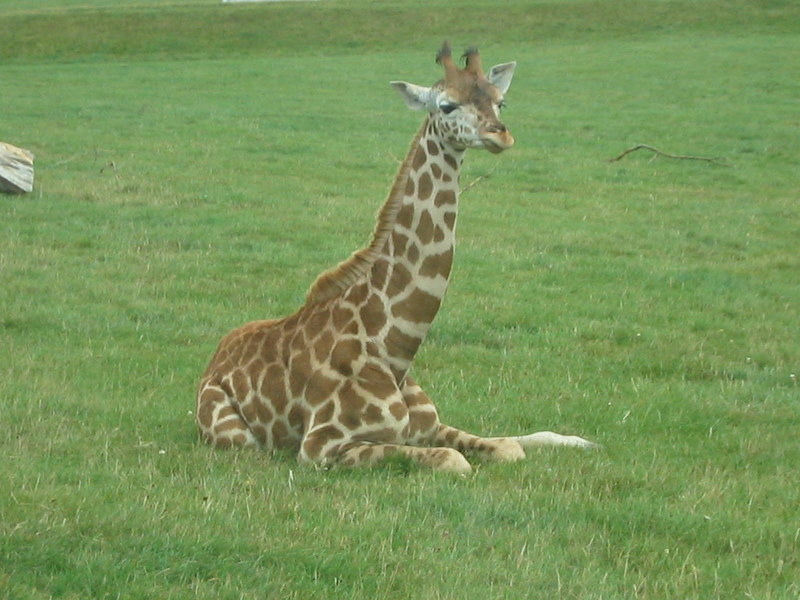giraffe: (188, 40, 570, 473)
